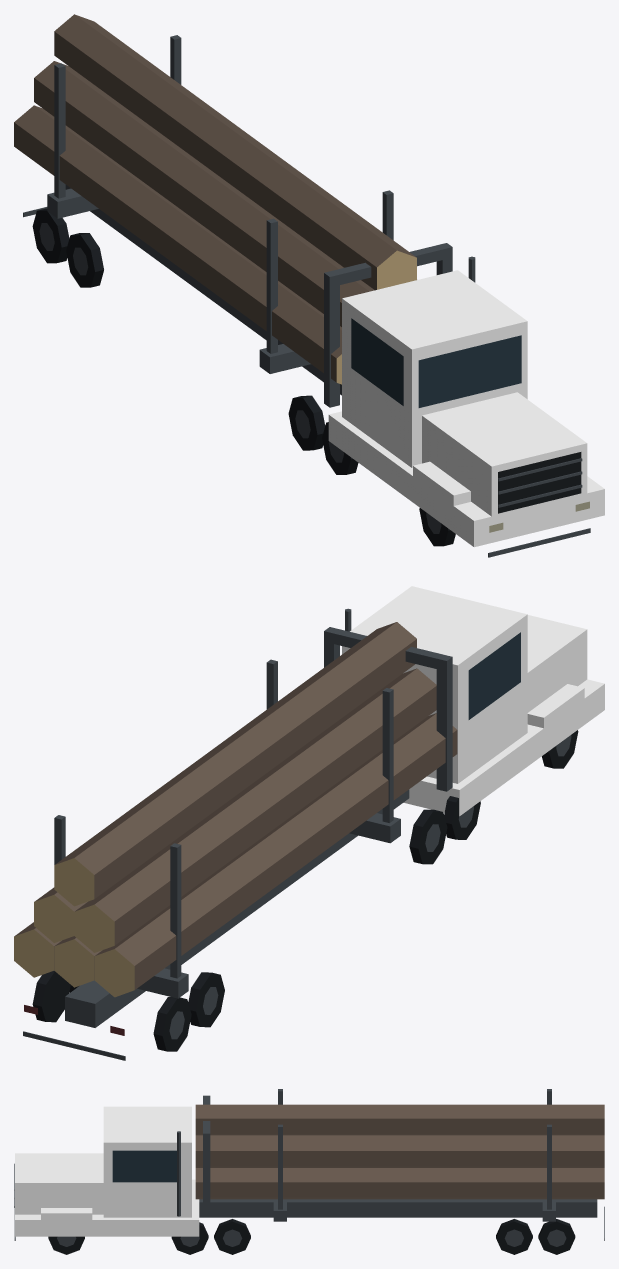
File: log-truck.glb
The picture shows the model from 3 angles, top to bottom: view 1: azimuth 30°, elevation 25°; view 2: azimuth 150°, elevation 25°; view 3: azimuth 270°, elevation 25°; orthographic projection. The views are drawn at different scales.
Parts seen in each view (by area): view 1: vehicle_body; view 2: vehicle_body; view 3: vehicle_body.
Part boxes in pixels (<box>): vehicle_body: <box>14,14,604,557</box>; vehicle_body: <box>14,586,604,1060</box>; vehicle_body: <box>14,1089,604,1254</box>.
Size of the model in its own units: 2.6 by 3.9 by 16.04.
